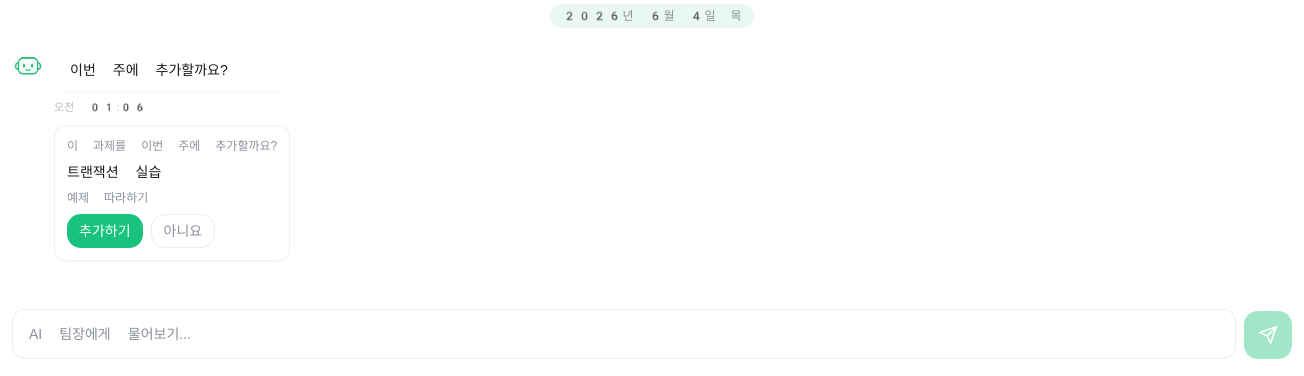
Test: GroupAiPage › confirms an ADD_TASK action
Click the button "추가하기".
click(105, 230)  # box top-left (67, 214), bottom-right (142, 248)
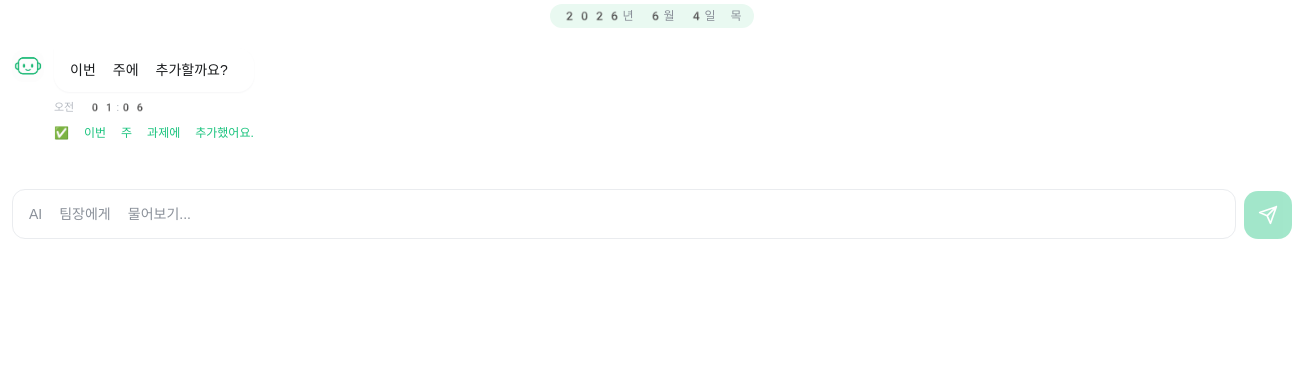
Check: the text "이번 주 과제에 추가했어요" is shown, box top-left (54, 126), bottom-right (254, 140)
